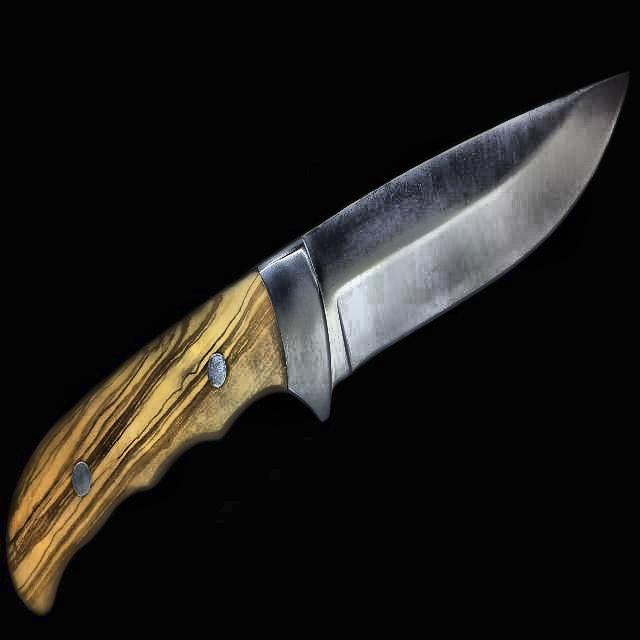knife: (6, 64, 636, 624)
